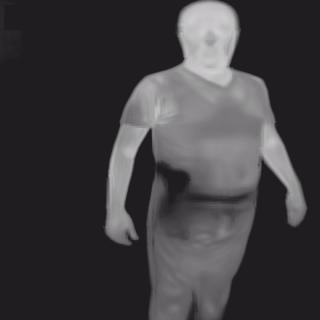Gun: (153, 160, 191, 216)
